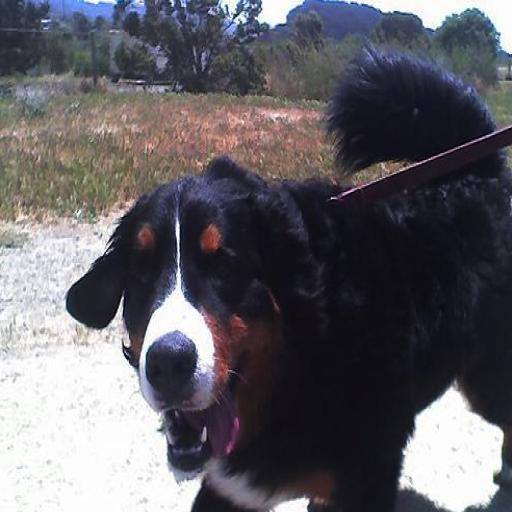dog_face: (76, 178, 290, 452)
